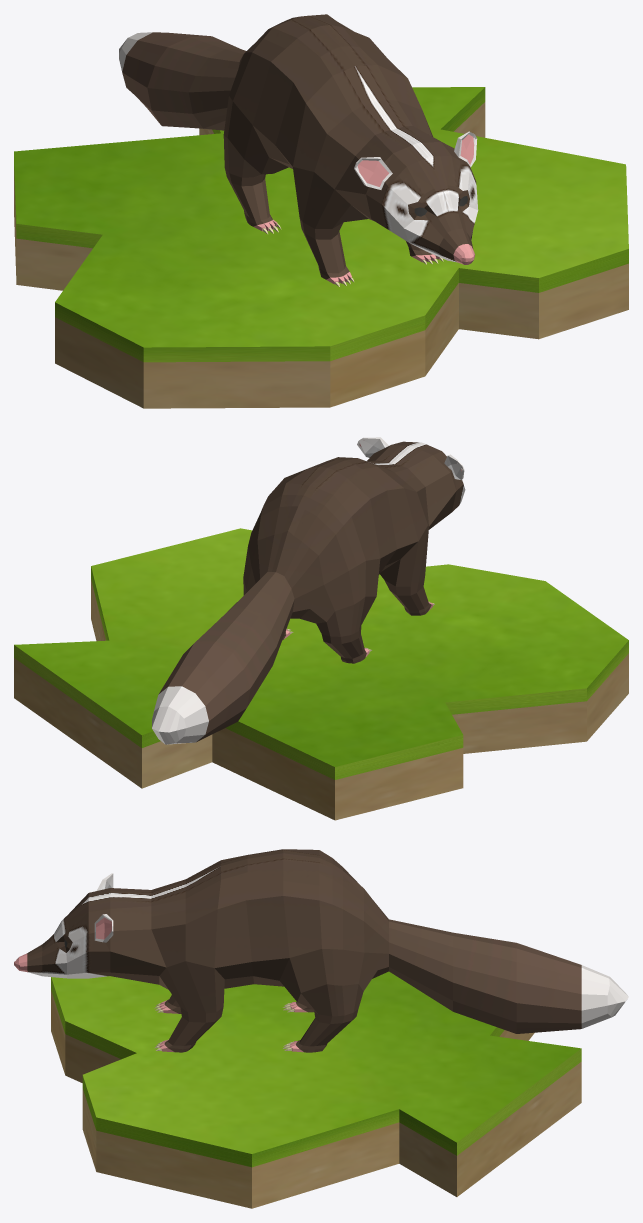
File: result.glb
The picture shows the model from 3 angles, top to bottom: view 1: azimuth 30°, elevation 25°; view 2: azimuth 150°, elevation 25°; view 3: azimuth 270°, elevation 25°; orthographic projection. The views are drawn at different scales.
Parts seen in each view (by area): view 1: Cube; view 2: Cube; view 3: Cube.
Part boxes in pixels (x1=…): Cube: x1=14, y1=14, x2=628, y2=408; Cube: x1=14, y1=437, x2=628, y2=820; Cube: x1=14, y1=849, x2=628, y2=1208.
Bounding box in the file's own units: 8.83 × 3.8 × 9.23.
1 material, 1 textured.
